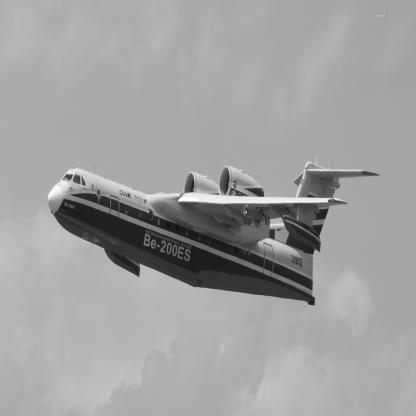Be200: (49, 157, 382, 307)
